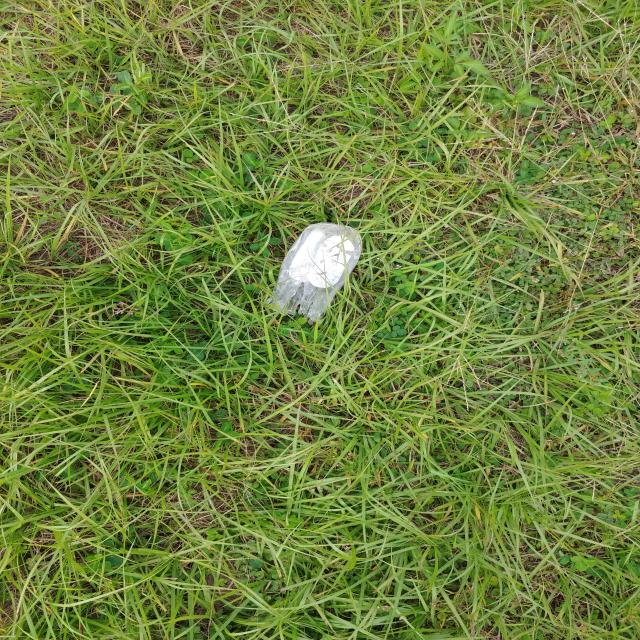litter: (266, 222, 363, 324)
